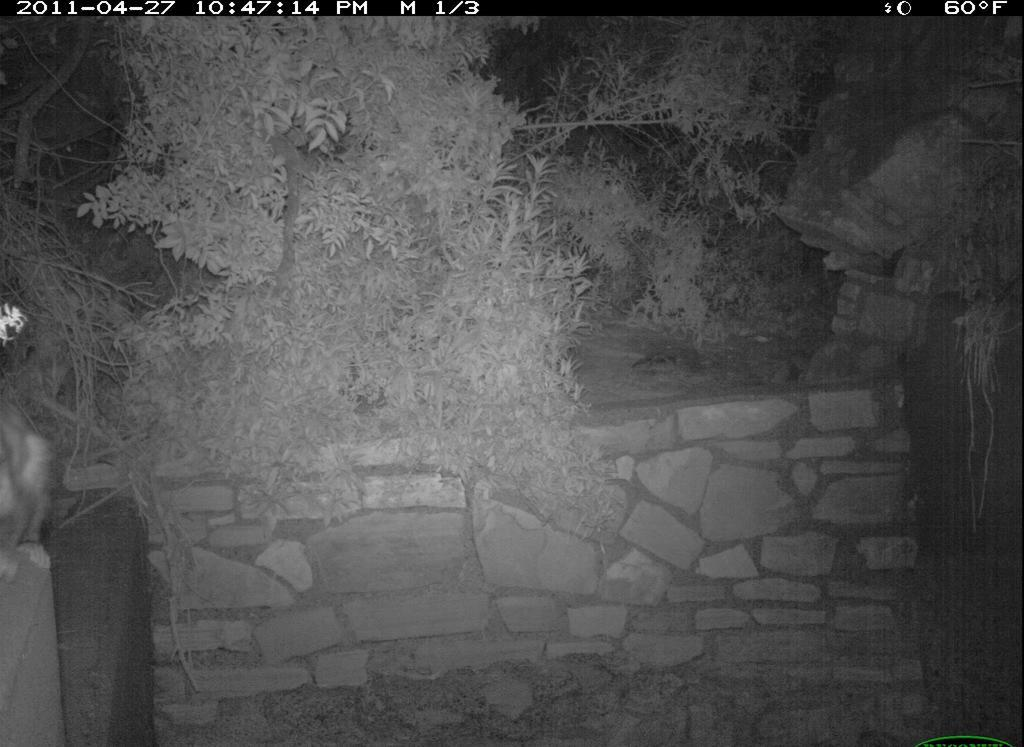opossum: (8, 388, 67, 592)
